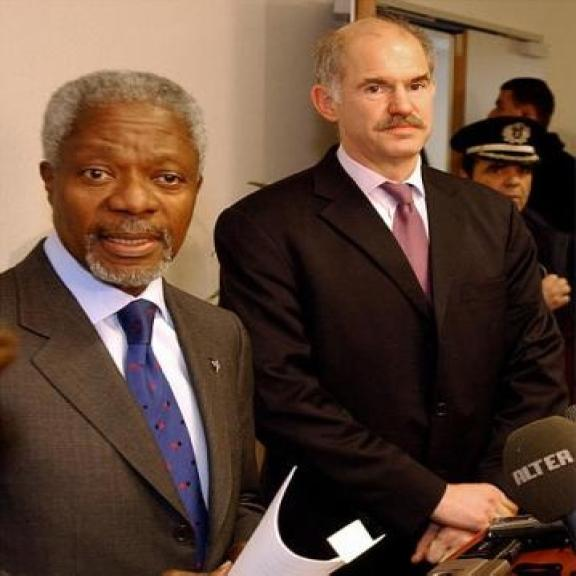face: (37, 110, 206, 292), (312, 39, 445, 162), (464, 147, 535, 213)
